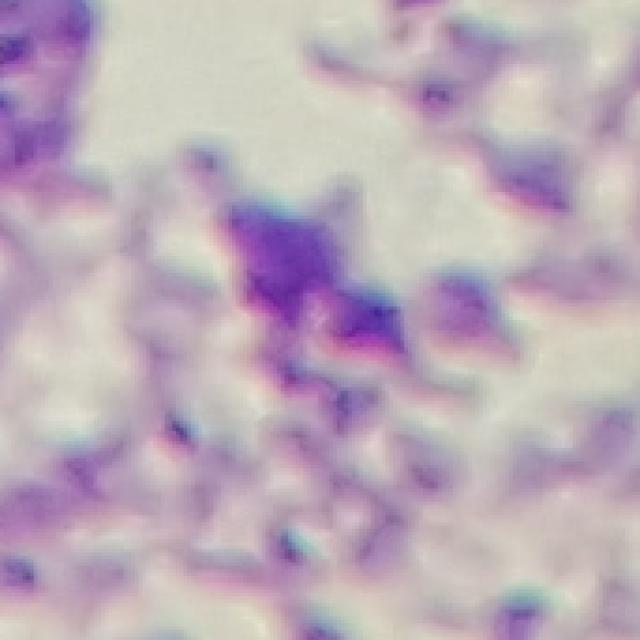non-sperm: (200, 185, 482, 566)
